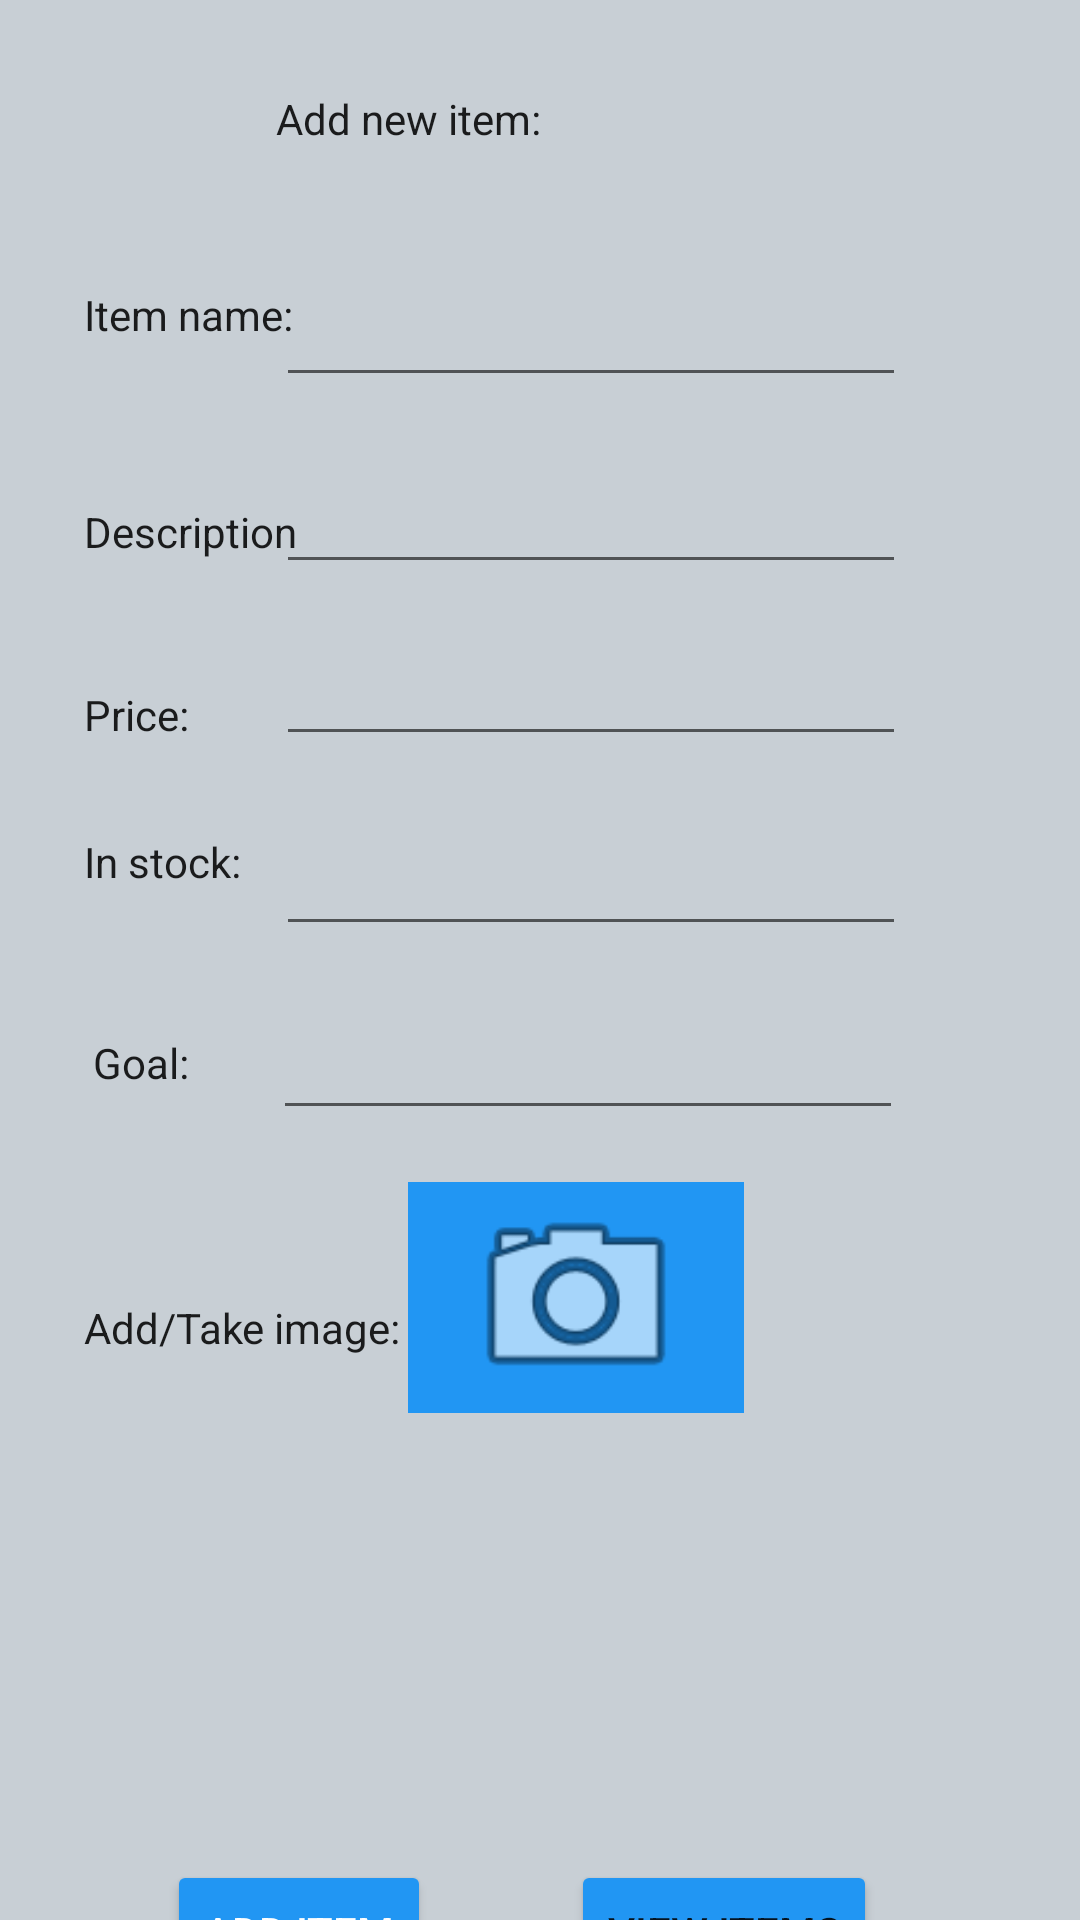

Where to tap for icons on this 1080*1920 app screen, as point (x, y):
camera: point (576, 1297)
